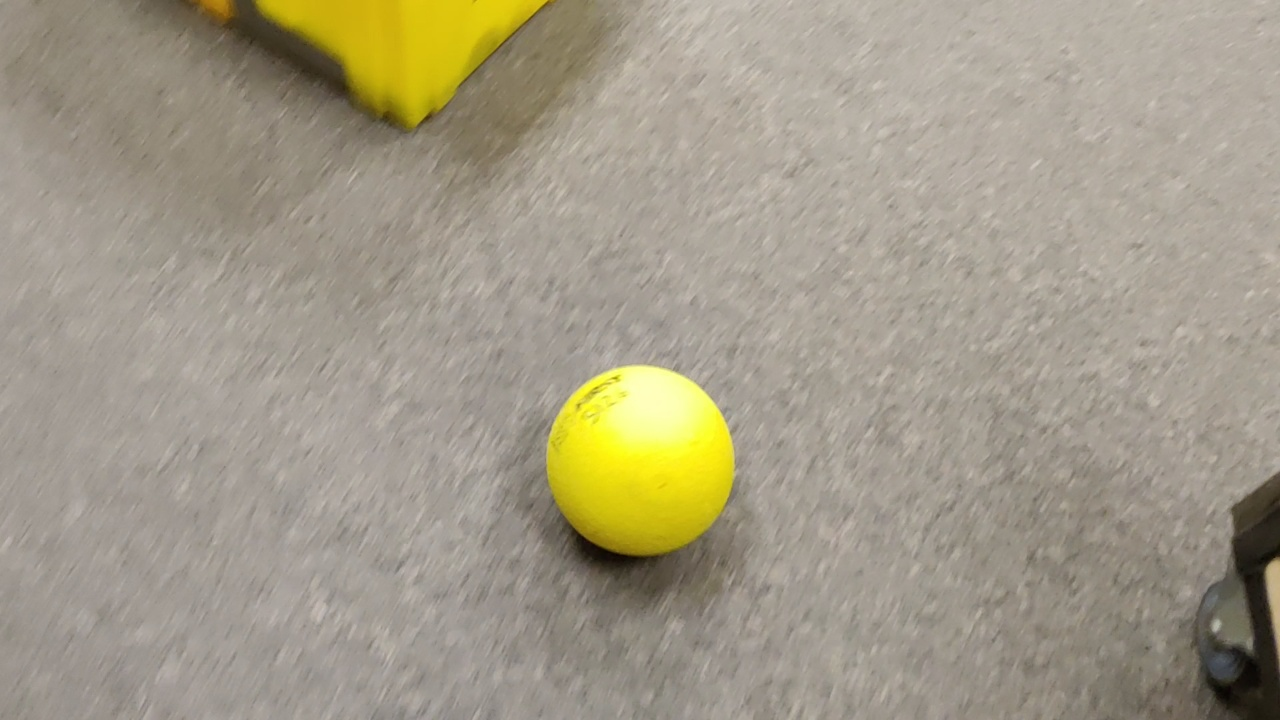Ball: (545, 364, 743, 559)
